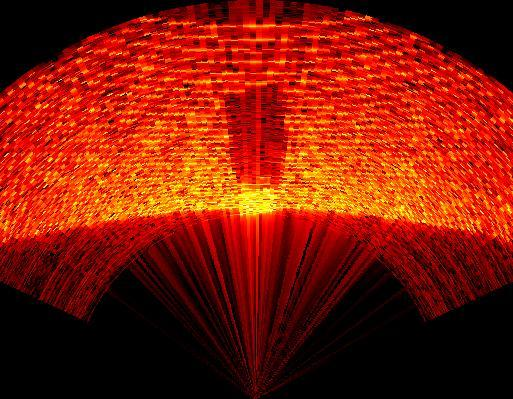box_crate: (224, 82, 288, 216)
